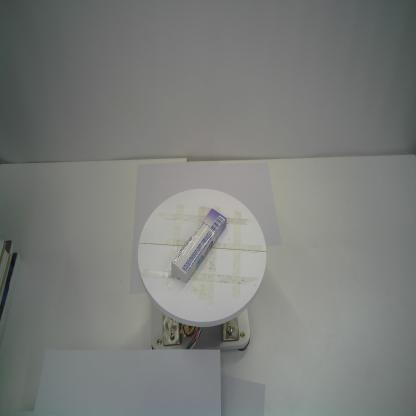Candy: (170, 207, 227, 285)
